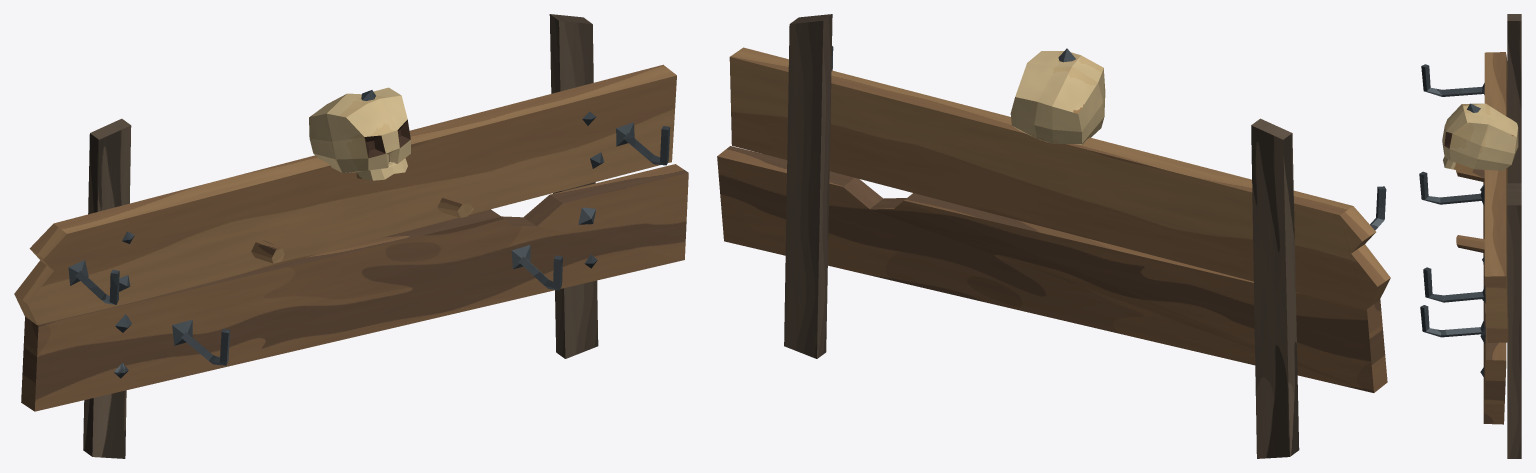
The model's file is SM_WallWeaponRack.fbx.
3 views of the same model, side by side, from view 1: azimuth 30°, elevation 25°; view 2: azimuth 150°, elevation 25°; view 3: azimuth 270°, elevation 25° (orthographic). The views are drawn at different scales.
Visible parts, largest first — view 1: SM_WallWeaponRack; view 2: SM_WallWeaponRack; view 3: SM_WallWeaponRack.
Part boxes in pixels (x1=…): SM_WallWeaponRack: x1=14, y1=14, x2=688, y2=458; SM_WallWeaponRack: x1=717, y1=14, x2=1390, y2=458; SM_WallWeaponRack: x1=1419, y1=14, x2=1521, y2=458.
Bounding box in the file's own units: 1.4 × 0.6888 × 0.2418.
